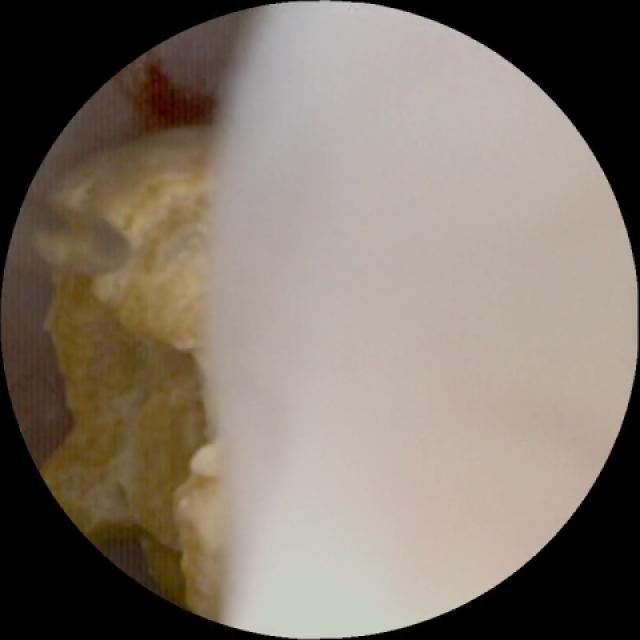stone: (38, 126, 218, 617)
